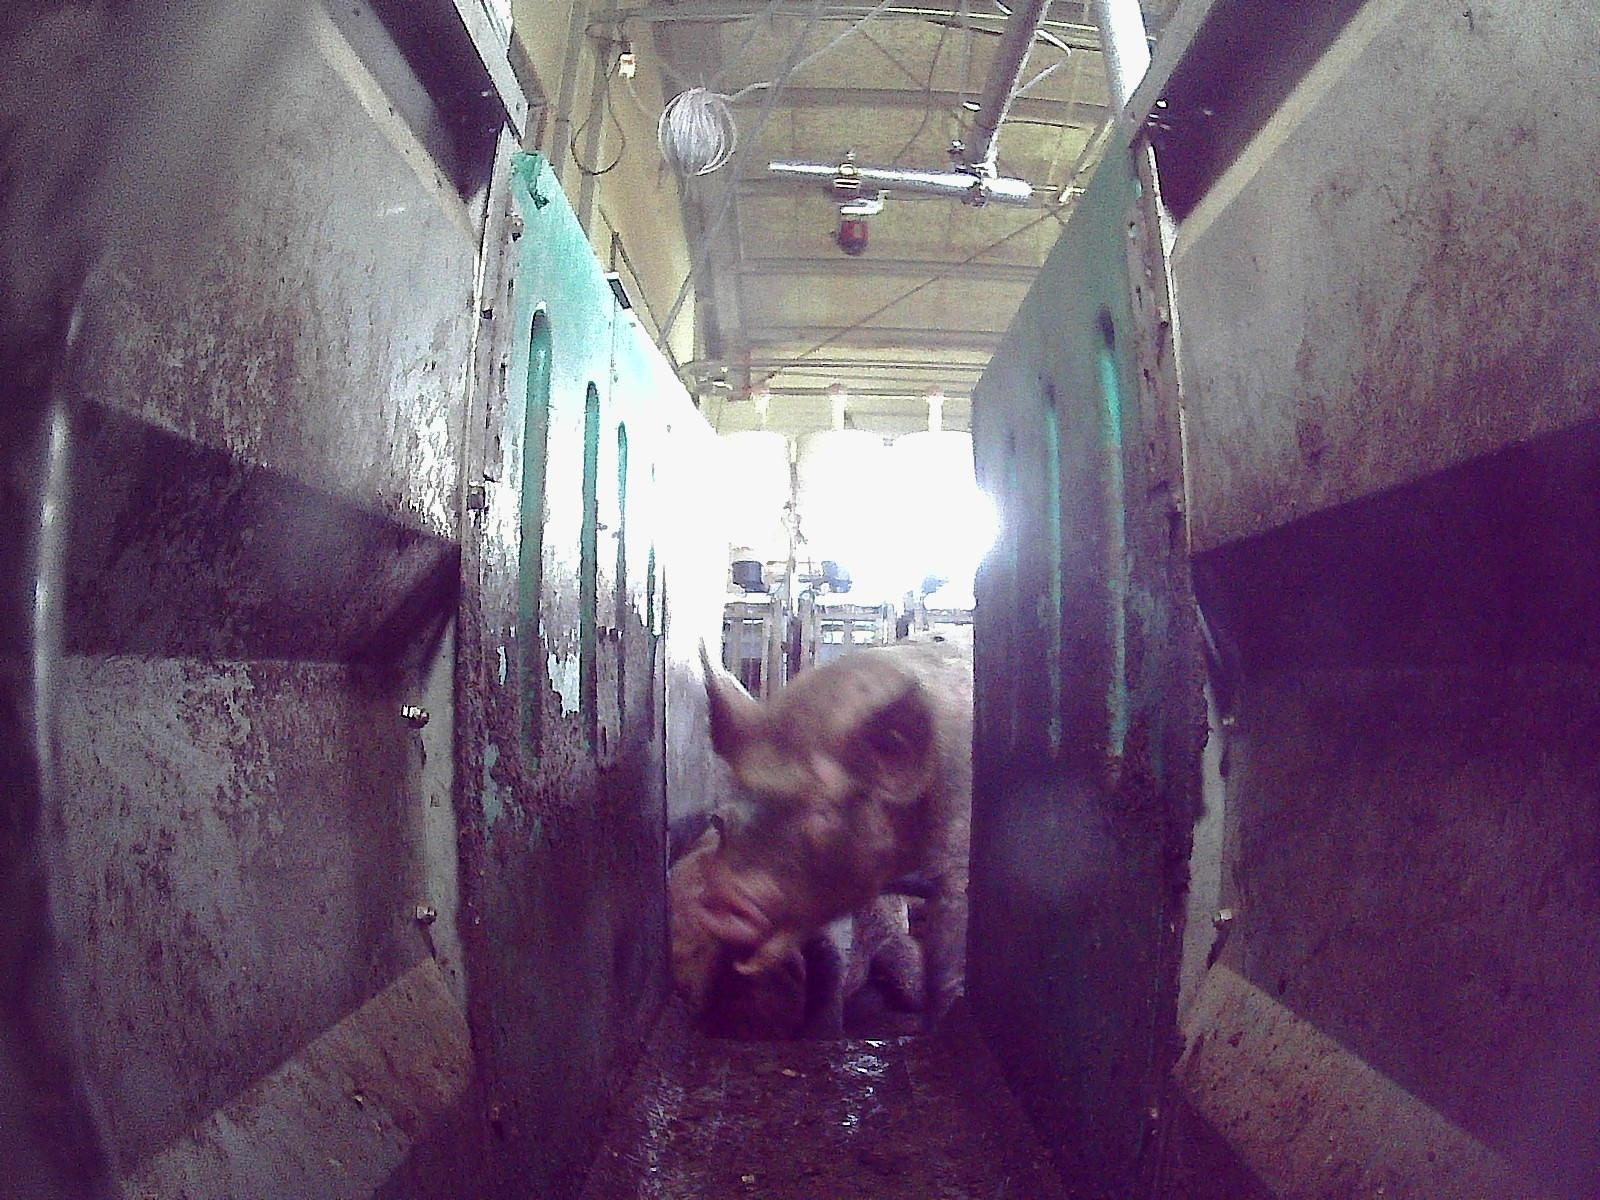Face: (691, 712, 879, 976)
